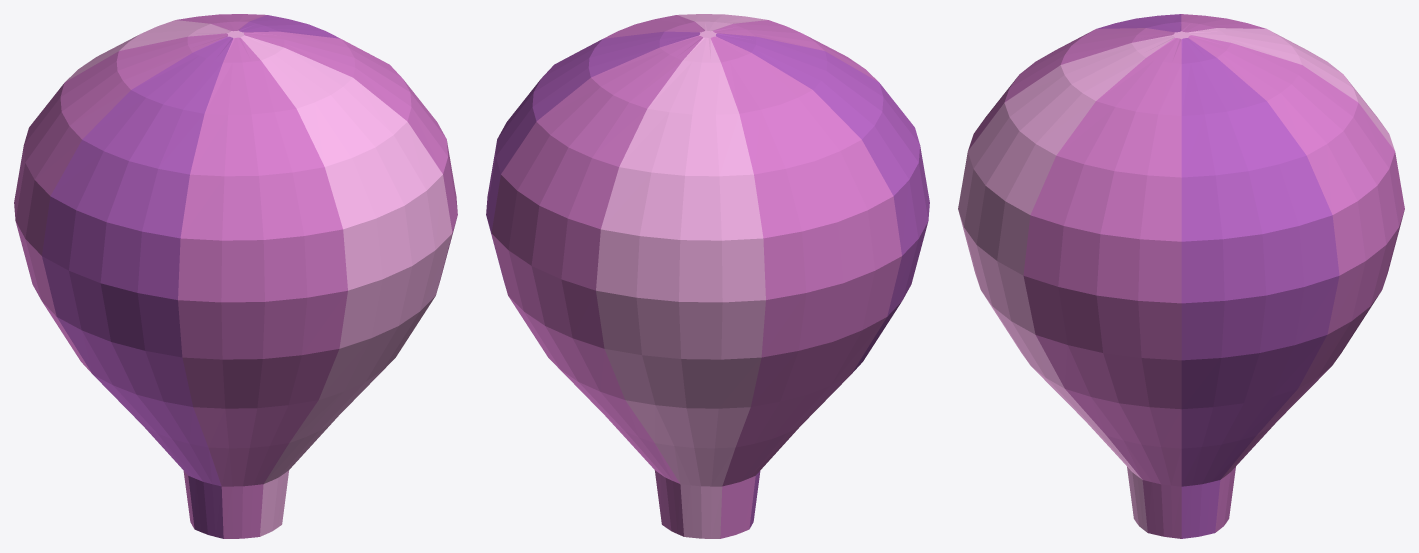
3 views of the same model, side by side, from view 1: azimuth 30°, elevation 25°; view 2: azimuth 150°, elevation 25°; view 3: azimuth 270°, elevation 25° (orthographic).
Visible parts, largest first — view 1: 八瓣纵向折纸气囊.001; view 2: 八瓣纵向折纸气囊.001; view 3: 八瓣纵向折纸气囊.001.
Part boxes in pixels (box(x1,y1,x2,y2)): 八瓣纵向折纸气囊.001: box(14, 14, 457, 538); 八瓣纵向折纸气囊.001: box(486, 14, 929, 538); 八瓣纵向折纸气囊.001: box(958, 14, 1404, 538).
Bounding box in the file's own units: 1.1 × 1.31 × 1.1.
